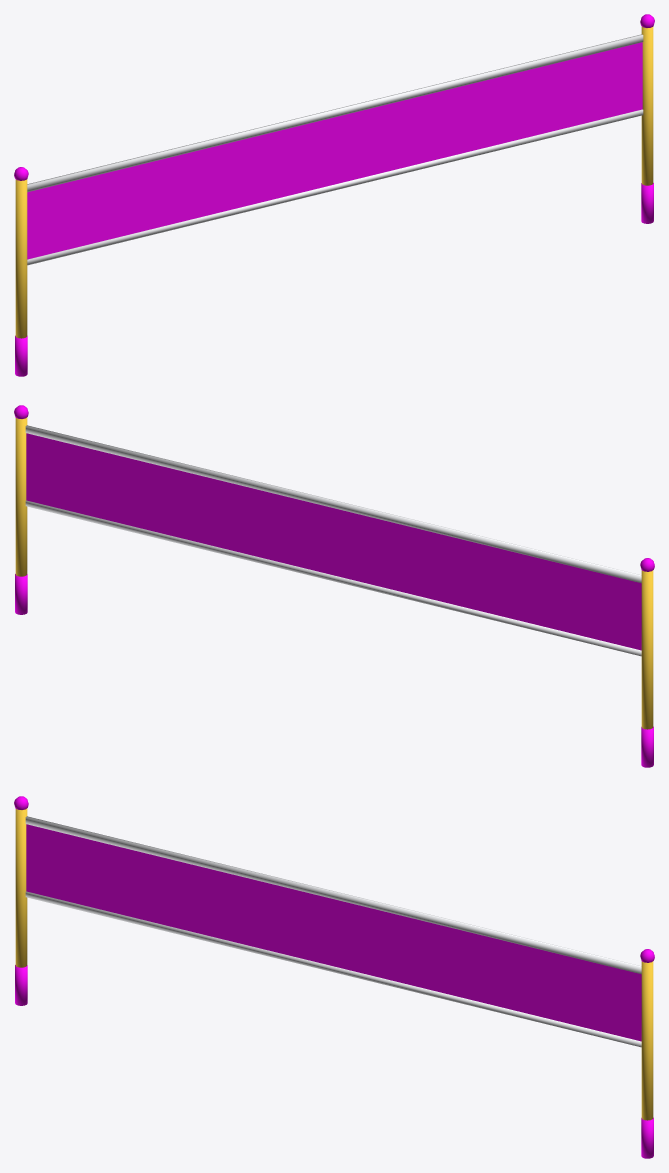
File: volleyball_net.glb
3 views of the same model, one above another, from view 1: azimuth 30°, elevation 25°; view 2: azimuth 150°, elevation 25°; view 3: azimuth 330°, elevation 25° (orthographic).
Parts seen in each view (by area): view 1: volleyball_net; view 2: volleyball_net; view 3: volleyball_net.
Part boxes in pixels (x1,y1,x2,y2): volleyball_net: (14, 14, 654, 376); volleyball_net: (14, 405, 654, 767); volleyball_net: (14, 796, 654, 1158).
Bounding box in the file's own units: 8.77 × 2.71 × 0.18.
